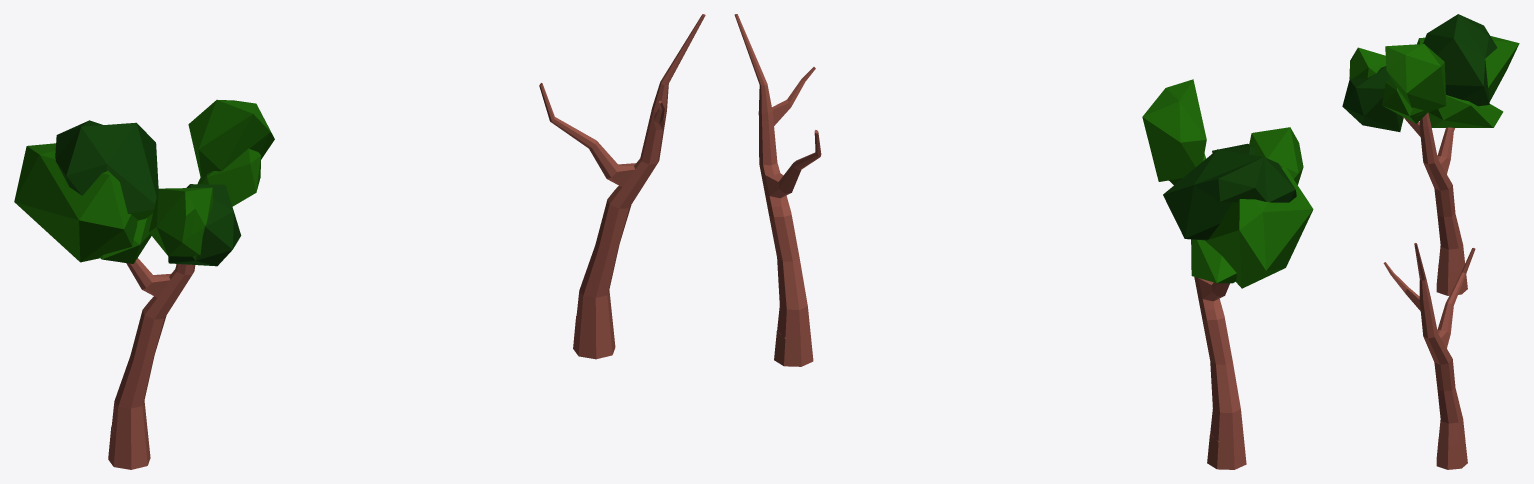
The model's file is Trees.fbx.
The picture shows the model from 3 angles, left to right: view 1: azimuth 30°, elevation 25°; view 2: azimuth 150°, elevation 25°; view 3: azimuth 270°, elevation 25°; orthographic projection. The views are drawn at different scales.
Parts seen in each view (by area): view 1: Icosphere, Cylinder, Cylinder.001; view 2: Icosphere, Cylinder, Cylinder.001; view 3: Icosphere, Cylinder, Cylinder.001.
Boxes of the visible parts, x1,y1,x2,y2 form: Icosphere: (14,99,274,469); Cylinder: (539,14,705,326); Cylinder.001: (573,316,615,359); Icosphere: (1142,79,1313,469); Cylinder: (734,14,821,338); Cylinder.001: (774,331,813,366); Icosphere: (1342,14,1519,295); Cylinder: (1383,243,1475,446); Cylinder.001: (1436,439,1467,469).
Bounding box in the file's own units: 3338 × 1831 × 1072.
